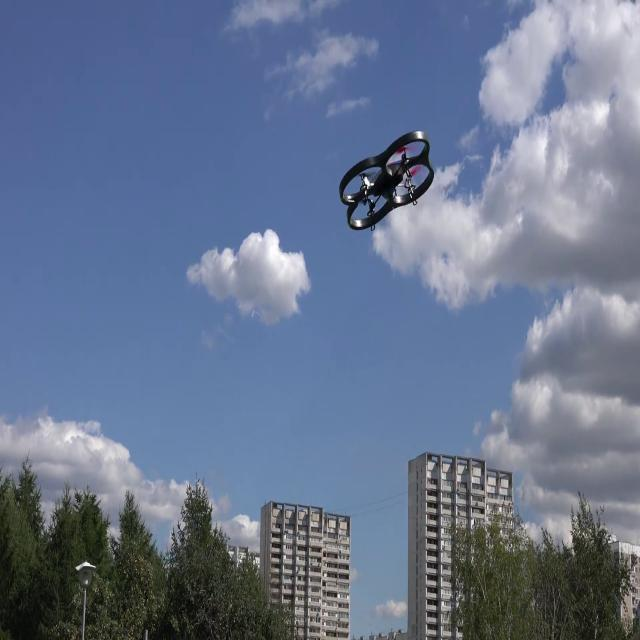Drons: (332, 128, 438, 237)
